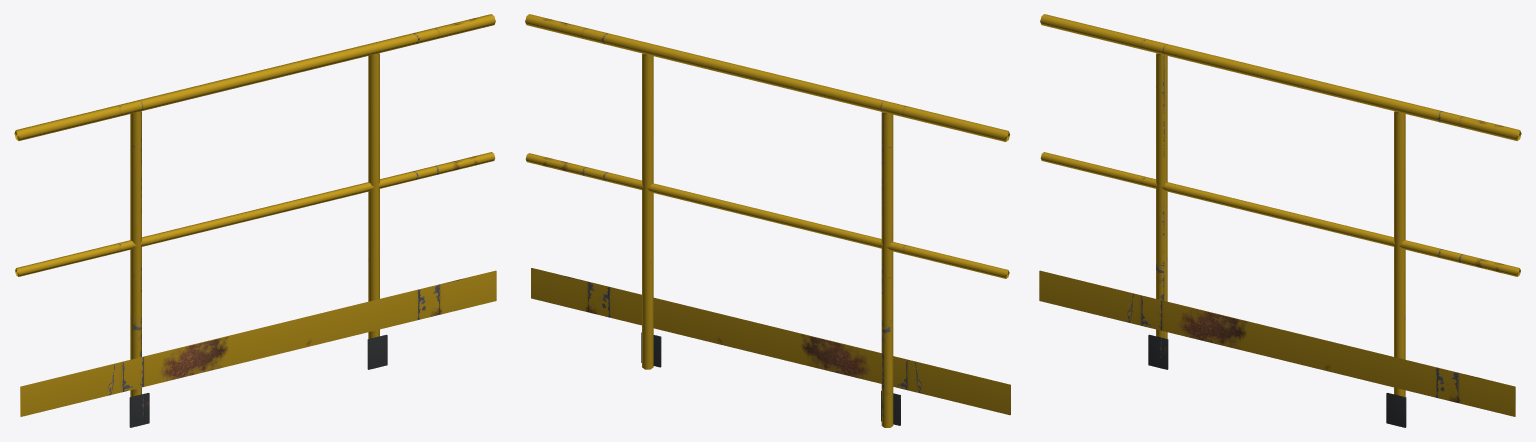
File: SM_IK_Railing_200_LOD2.fbx
3 views of the same model, side by side, from view 1: azimuth 30°, elevation 25°; view 2: azimuth 150°, elevation 25°; view 3: azimuth 330°, elevation 25° (orthographic).
Visible parts, largest first — view 1: SM_IK_Railing_200_LOD2; view 2: SM_IK_Railing_200_LOD2; view 3: SM_IK_Railing_200_LOD2.
Boxes of the visible parts, <box> form: SM_IK_Railing_200_LOD2: <box>14,14,496,427</box>; SM_IK_Railing_200_LOD2: <box>525,14,1010,427</box>; SM_IK_Railing_200_LOD2: <box>1039,14,1521,427</box>.
Size of the model in its own units: 200 by 5 by 129.
